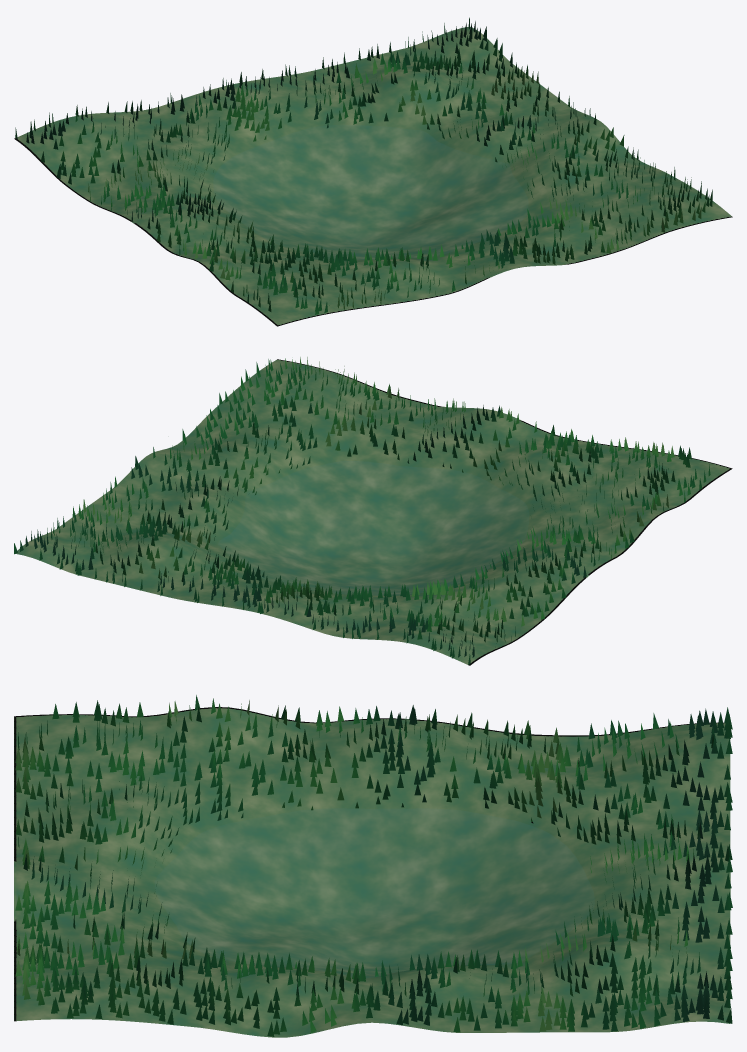
File: lake - hunger games.glb
3 views of the same model, one above another, from view 1: azimuth 30°, elevation 25°; view 2: azimuth 150°, elevation 25°; view 3: azimuth 270°, elevation 25° (orthographic). The views are drawn at different scales.
Parts seen in each view (by area): view 1: Lake; view 2: Lake; view 3: Lake.
Part boxes in pixels (x1,y1,x2,y2): Lake: (14,17,732,326); Lake: (14,357,732,665); Lake: (14,695,732,1037).
Size of the model in its own units: 4 by 0.6085 by 4.02.
3 materials, 3 textured.
